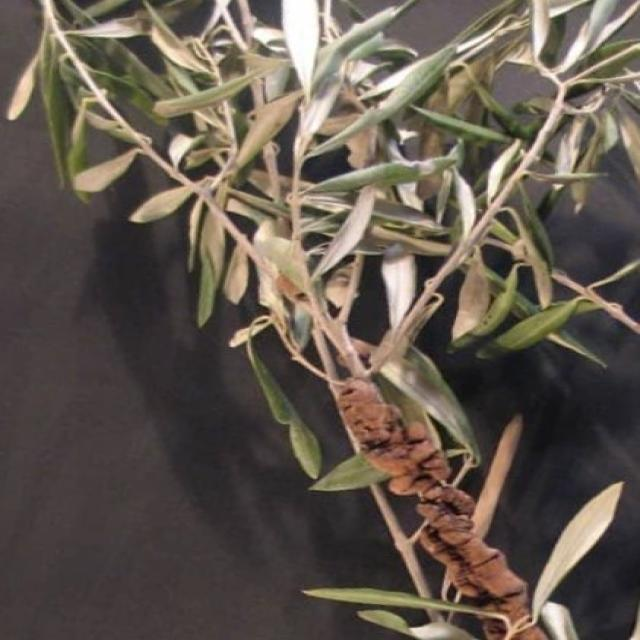Tuberculosis: (340, 380, 546, 638)
